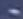Squash-Ball: (1, 0, 23, 19)
